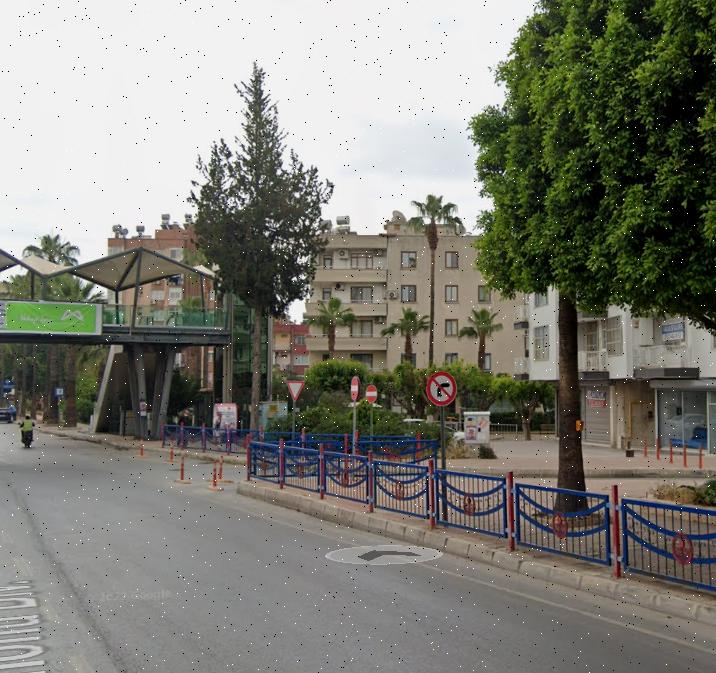rightturnsareforbidden: (426, 373, 458, 405)
